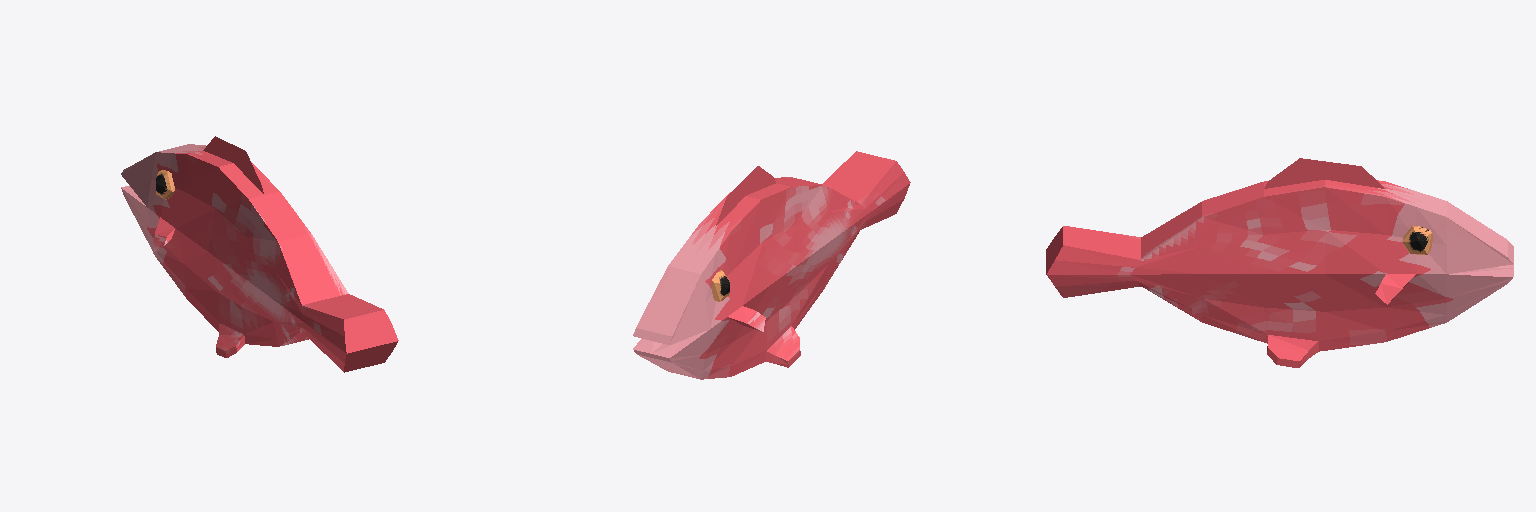
The picture shows the model from 3 angles: view 1: azimuth 30°, elevation 25°; view 2: azimuth 150°, elevation 25°; view 3: azimuth 270°, elevation 25°; orthographic projection.
Parts seen in each view (by area): view 1: Fish; view 2: Fish; view 3: Fish, Eyeballs.
Boxes of the visible parts, x1=… form: Fish: x1=121, y1=136, x2=398, y2=372; Fish: x1=633, y1=151, x2=910, y2=379; Fish: x1=1046, y1=158, x2=1513, y2=367; Eyeballs: x1=1402, y1=226, x2=1432, y2=254.
Bounding box in the file's own units: 1.25 × 2.38 × 5.15.
Materials: 2 (2 with a texture image).